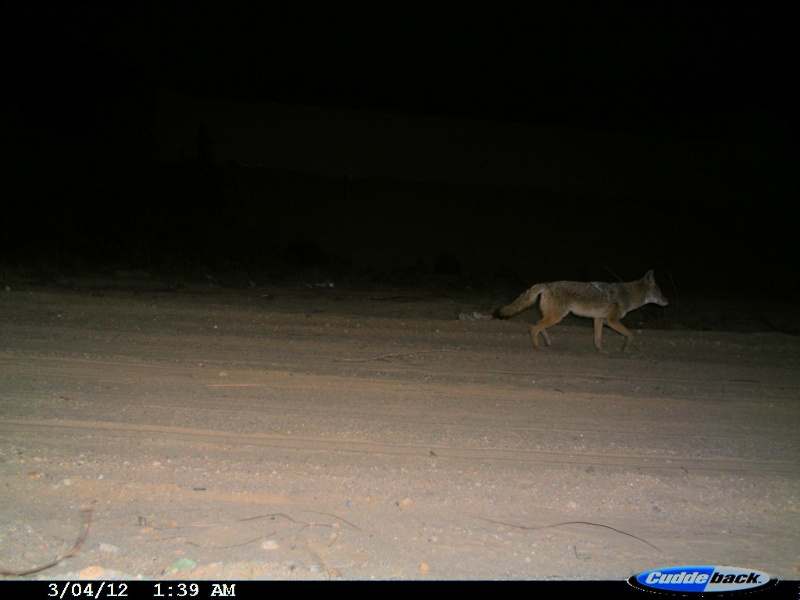coyote: (494, 267, 675, 349)
